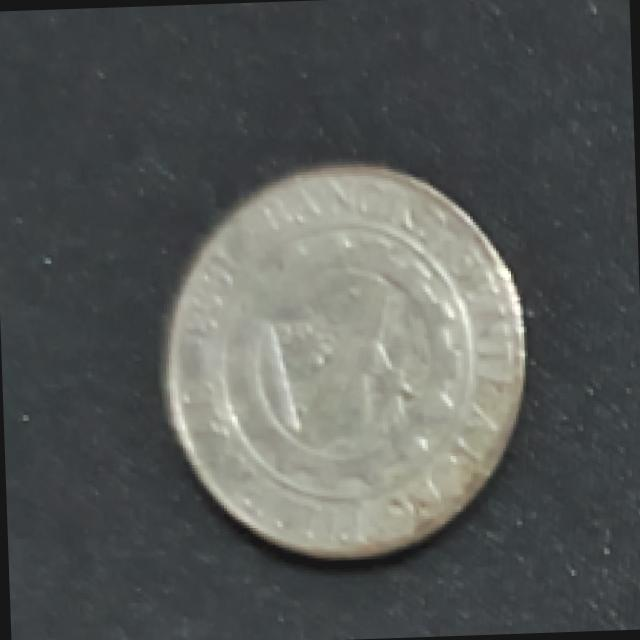1_peso: (165, 164, 522, 557)
